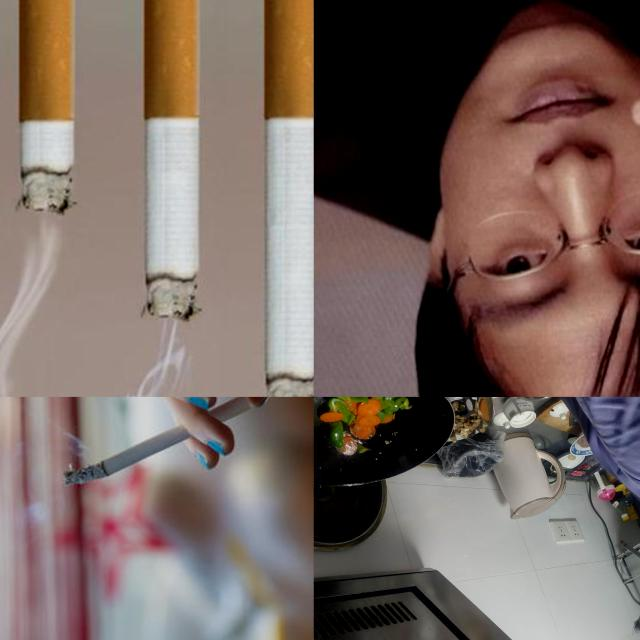smoke: (262, 0, 314, 397), (141, 0, 199, 323), (63, 397, 252, 485), (17, 0, 75, 214), (619, 540, 640, 564)
